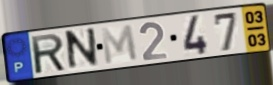2: (138, 20, 171, 62)
4: (181, 13, 210, 57)
7: (212, 12, 240, 53)
M: (99, 23, 141, 67)
N: (65, 26, 100, 73)
R: (29, 32, 68, 76)
